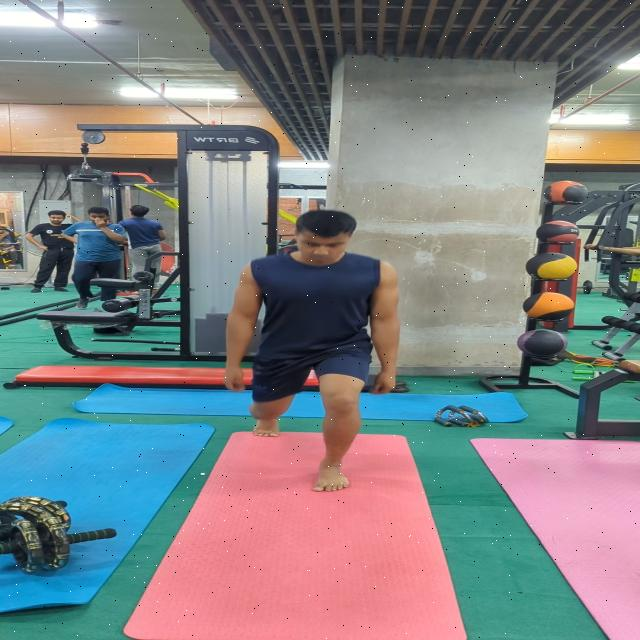Normal_Lunges: (222, 206, 403, 493)
